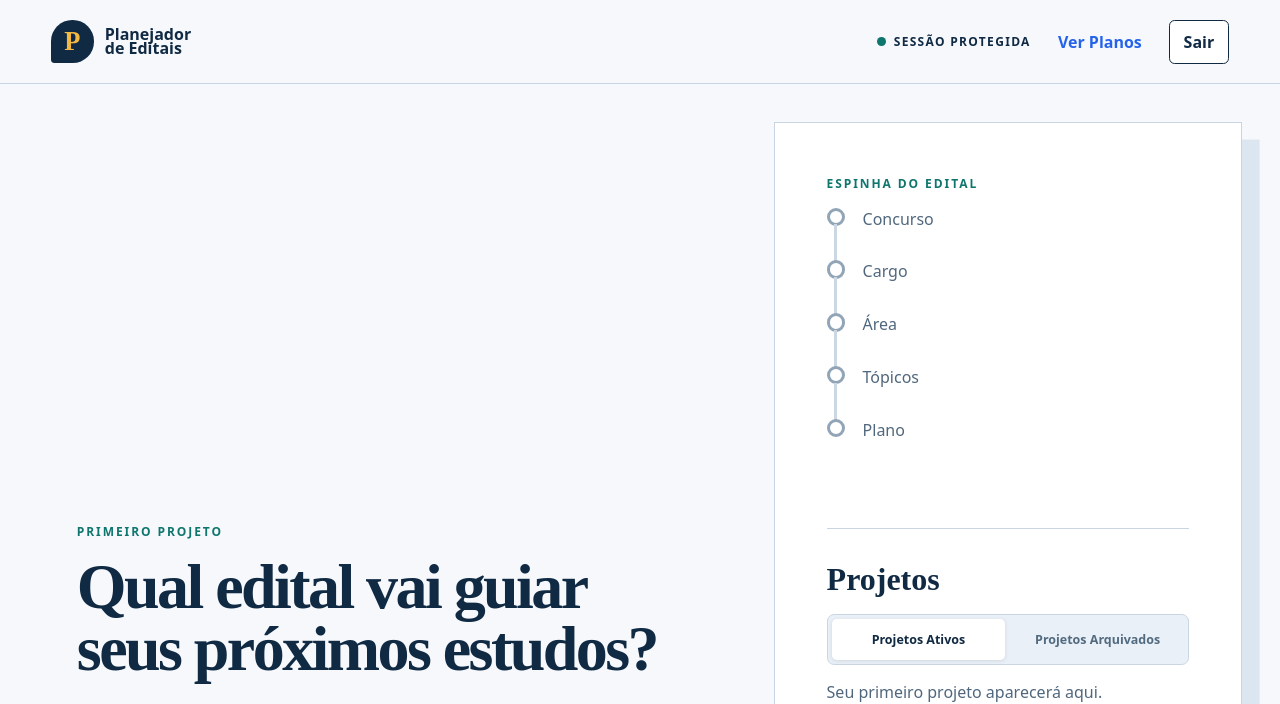
Test: first project journey › logs out through the BFF, clears authenticated UI, and reports completion
Expected: the text "Sessão Protegida" is shown, [877, 33, 1031, 50]
Click the button "Sair".
click(1199, 42)  # box [1169, 20, 1229, 64]
(page scrolled)
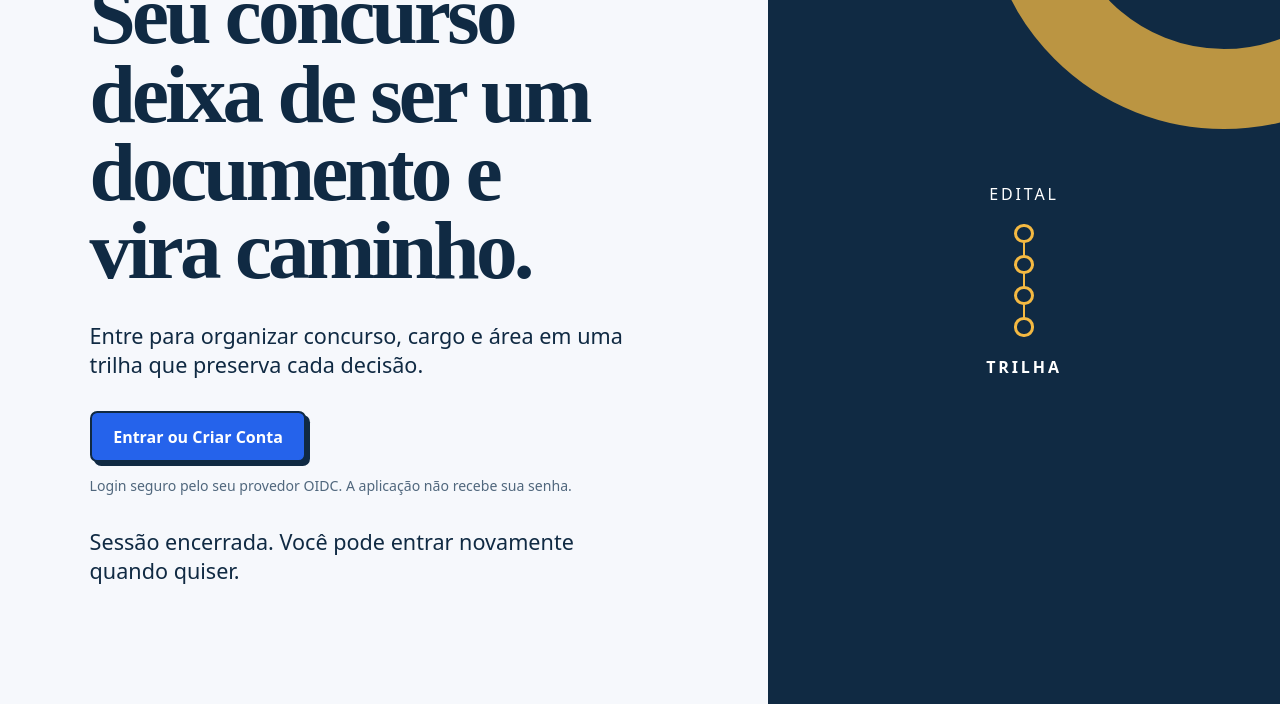
Expected: the button "Entrar ou Criar Conta" is shown, [90, 411, 306, 462]
Expected: the text "Sessão Protegida" is gone
Expected: the message shows "Sessão encerrada", [90, 527, 574, 585]
